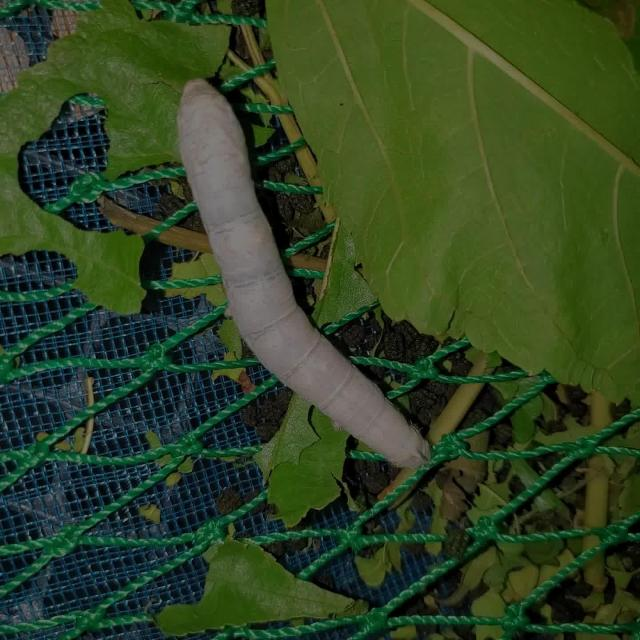Healthy: (166, 70, 434, 484)
